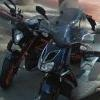Motorcycle: (0, 5, 93, 98)
